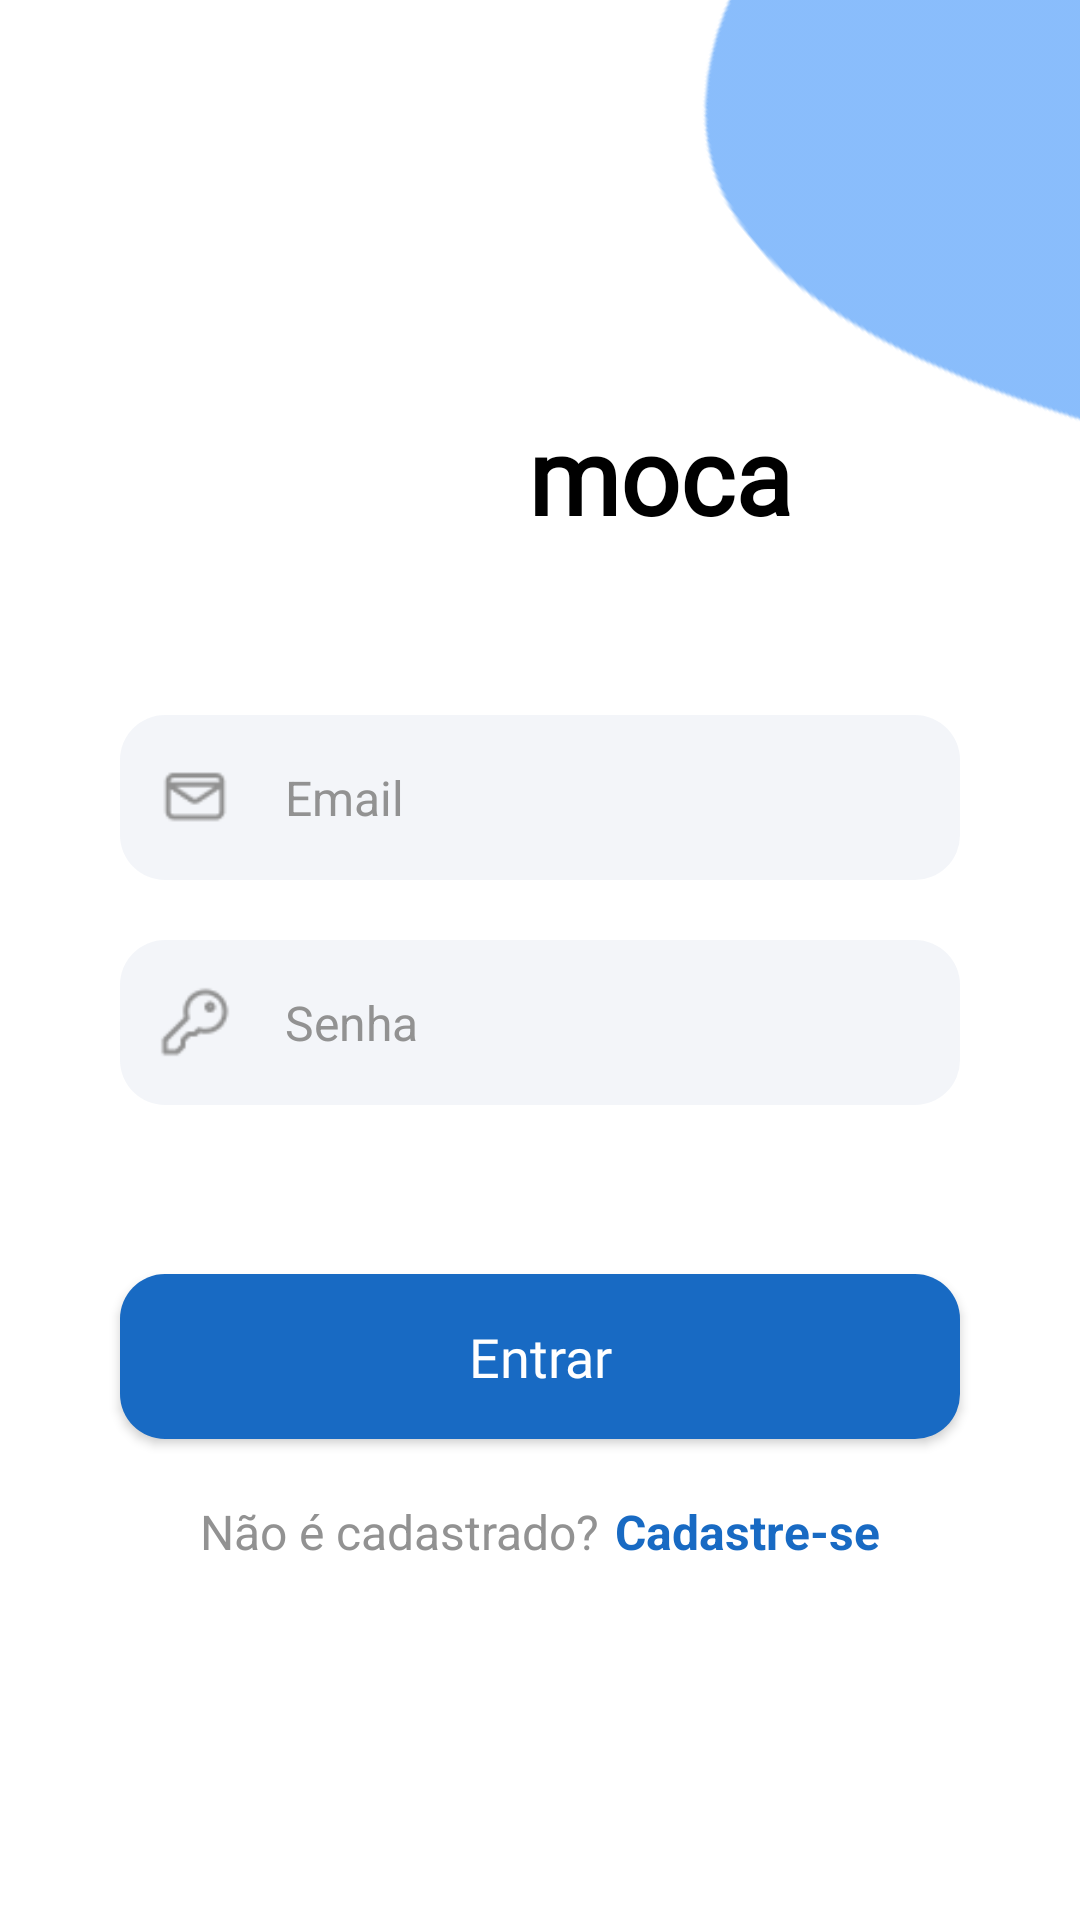

Named icons in this screenshot (1080w x 1920h) and their centers, [x,y]:
chave: [195,1022]
